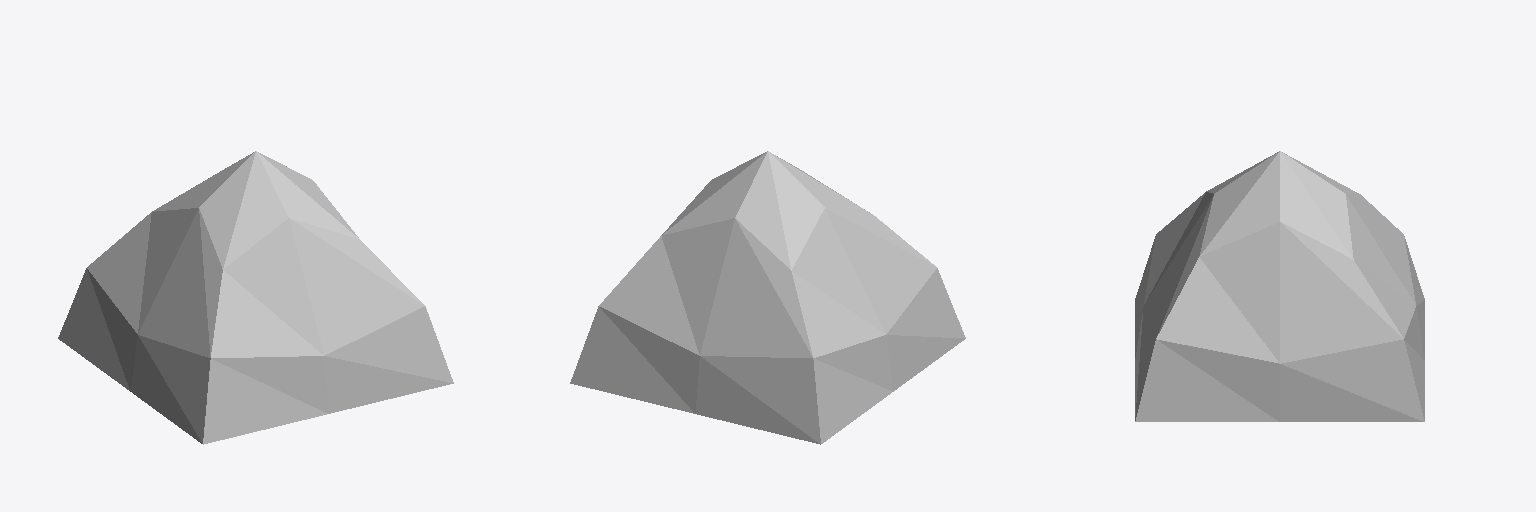
File: rock.obj
3 renders of one model, left to right at view 1: azimuth 30°, elevation 25°; view 2: azimuth 150°, elevation 25°; view 3: azimuth 270°, elevation 25°, orthographic.
Parts seen in each view (by area): view 1: weak_Cube.003; view 2: weak_Cube.003; view 3: weak_Cube.003.
Part boxes in pixels (x1,y1,x2,y2): weak_Cube.003: (58, 151, 453, 444); weak_Cube.003: (570, 151, 965, 444); weak_Cube.003: (1135, 151, 1424, 421).
Bounding box in the file's own units: 1.09 × 0.8711 × 1.09.